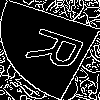R: (24, 25, 98, 77)
